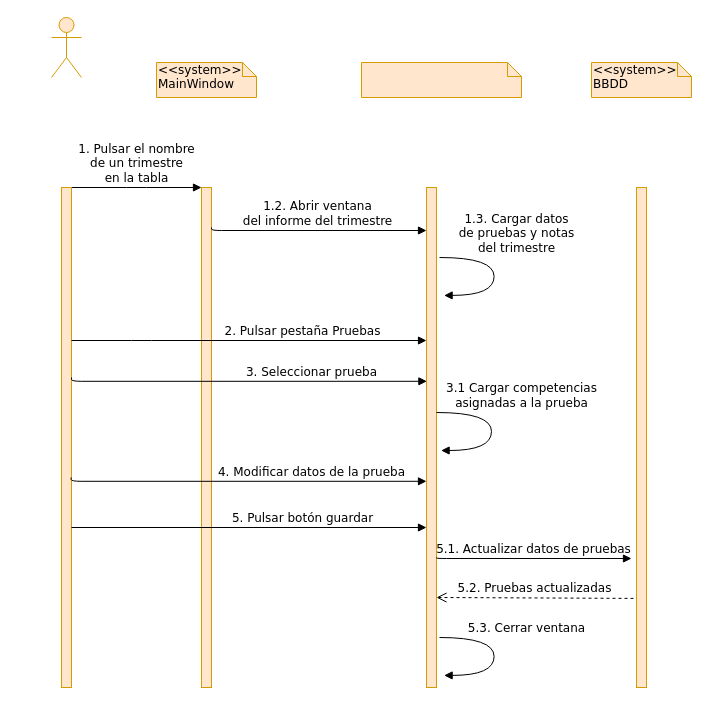
Some shapes in this 709 by 705 pixel diagram are drawn without their labels. Each missing label, with the box of its shape:
<<system>> InformeTrimestreWindow: (360, 62, 522, 98)
<<user>> Maestro: (50, 16, 82, 78)
